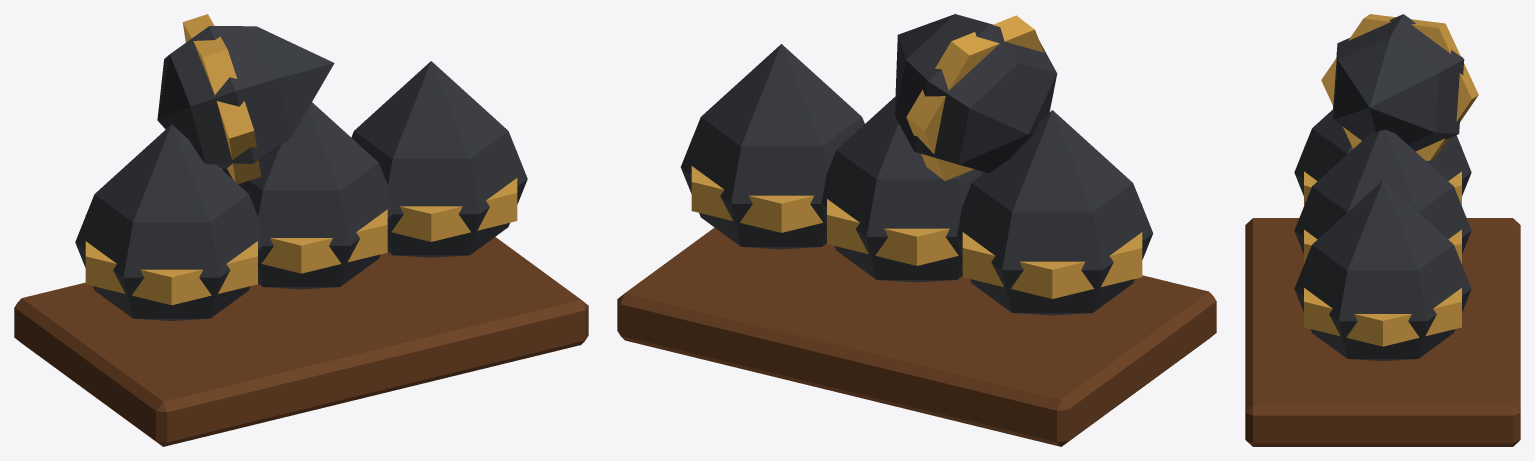
The model's file is MortarKit6.obj.
3 views of the same model, side by side, from view 1: azimuth 30°, elevation 25°; view 2: azimuth 150°, elevation 25°; view 3: azimuth 270°, elevation 25° (orthographic). The views are drawn at different scales.
Visible parts, largest first — view 1: MortarKit6; view 2: MortarKit6; view 3: MortarKit6.
Boxes of the visible parts, x1,y1,x2,y2 form: MortarKit6: (14,14,588,446); MortarKit6: (617,14,1216,446); MortarKit6: (1245,14,1520,446).
Bounding box in the file's own units: 0.3 × 0.2186 × 0.18.
